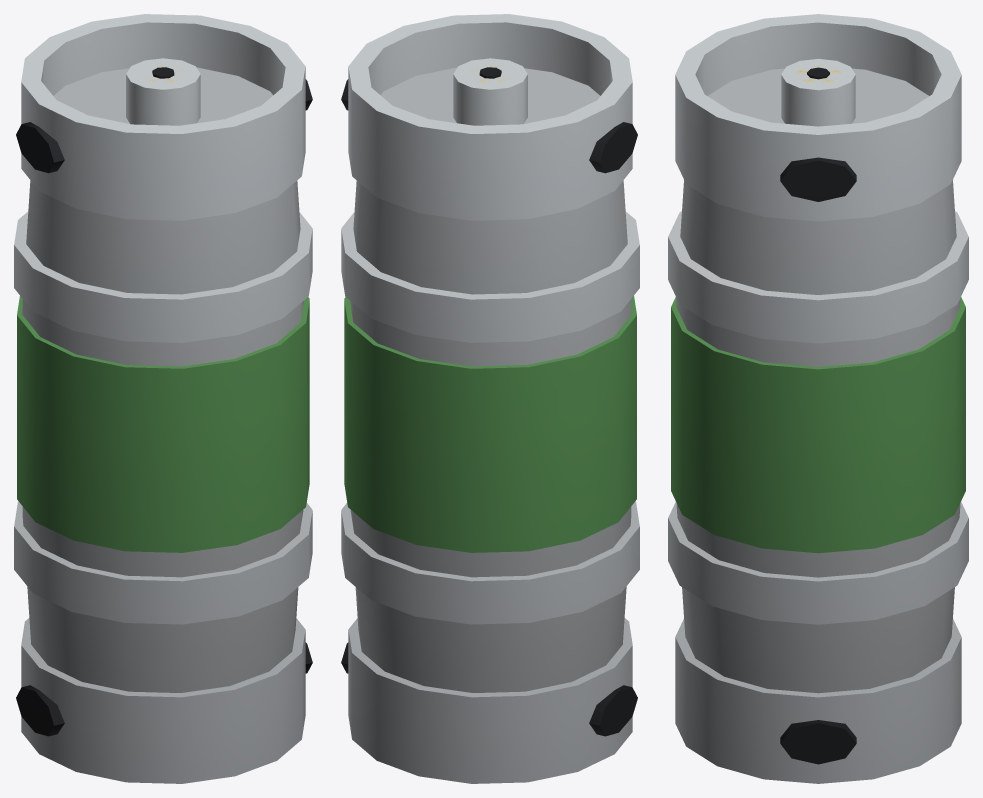
File: SM_Keg_Sixth_01.glb
The picture shows the model from 3 angles, left to right: view 1: azimuth 30°, elevation 25°; view 2: azimuth 150°, elevation 25°; view 3: azimuth 270°, elevation 25°; orthographic projection.
Parts seen in each view (by area): view 1: SM_Keg_Sixth_01; view 2: SM_Keg_Sixth_01; view 3: SM_Keg_Sixth_01.
Part boxes in pixels (left/top/right/bottom): SM_Keg_Sixth_01: left=14, top=14, right=312, bottom=783; SM_Keg_Sixth_01: left=341, top=14, right=639, bottom=783; SM_Keg_Sixth_01: left=668, top=14, right=968, bottom=783.
Bounding box in the file's own units: 0.252 × 0.602 × 0.252.
1 material, 1 textured.
